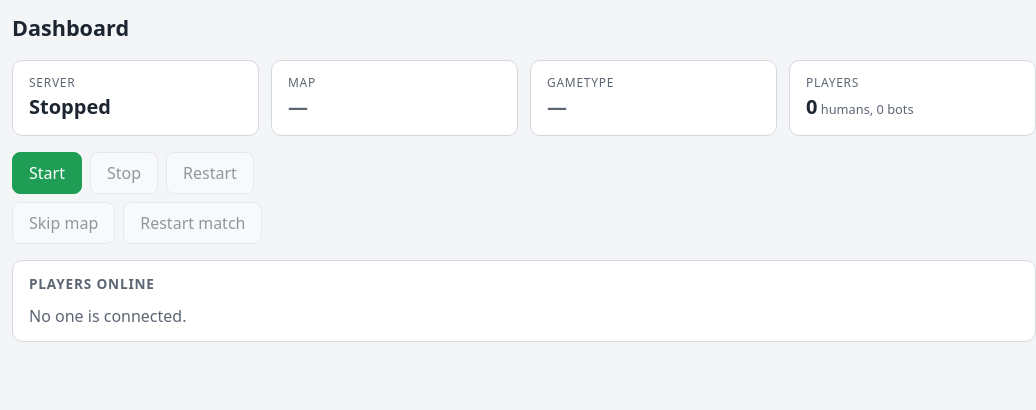
dashboard state and controls (8.4) › reports a rejected operation with the error returned
The width and height of the screenshot is (1036, 410).
Click the button "Start": {"x": 47, "y": 173} [12,152,82,194]
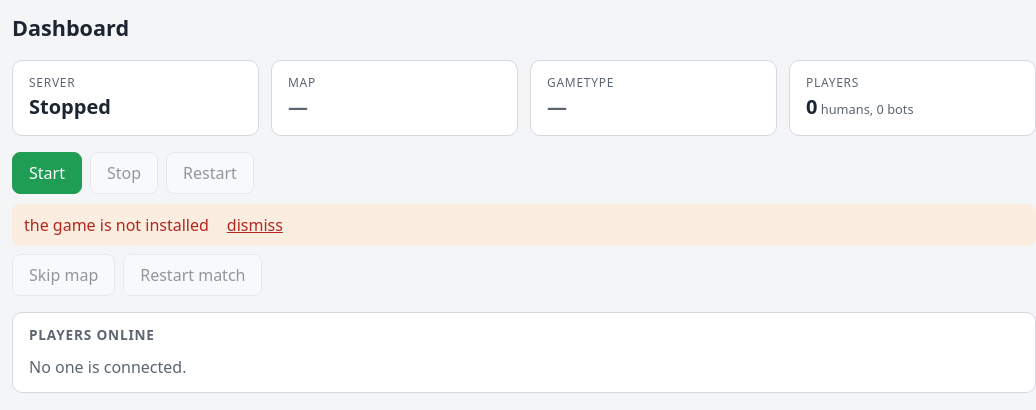
Result: the message shows "the game is not installed" at [24,214,209,236]
